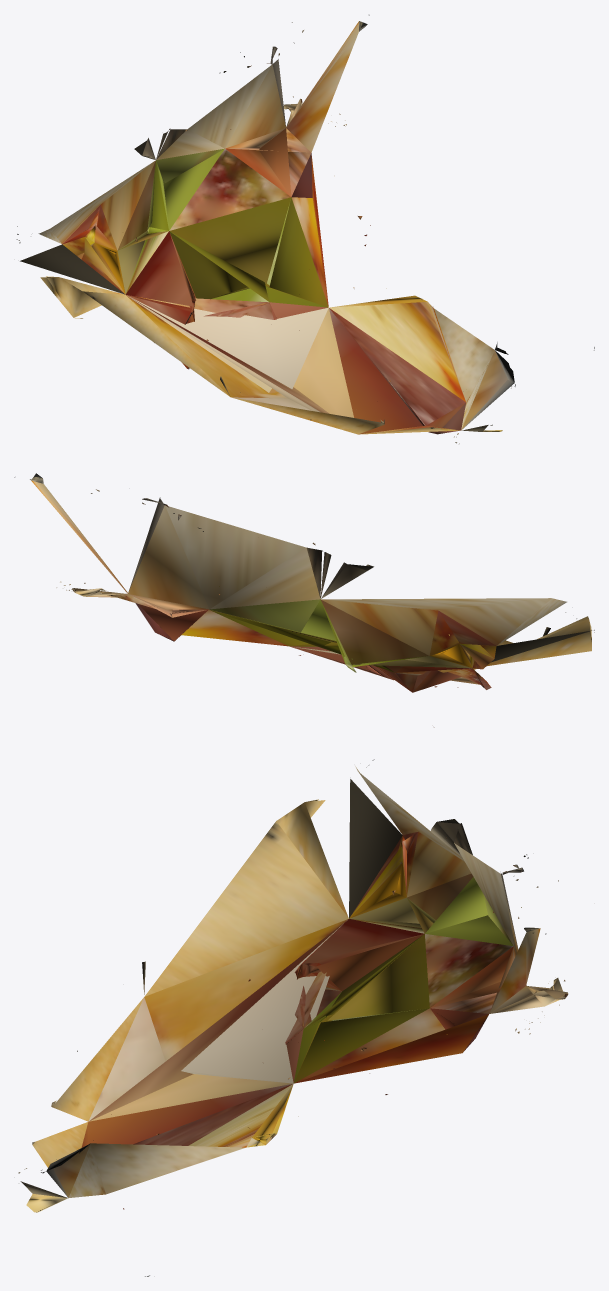
File: pizza_868.obj
3 renders of one model, top to bottom at view 1: azimuth 30°, elevation 25°; view 2: azimuth 150°, elevation 25°; view 3: azimuth 270°, elevation 25°, orthographic. The views are drawn at different scales.
Size of the model in its own units: 1.61 by 0.8102 by 1.27.
Materials: 1 (1 with a texture image).
